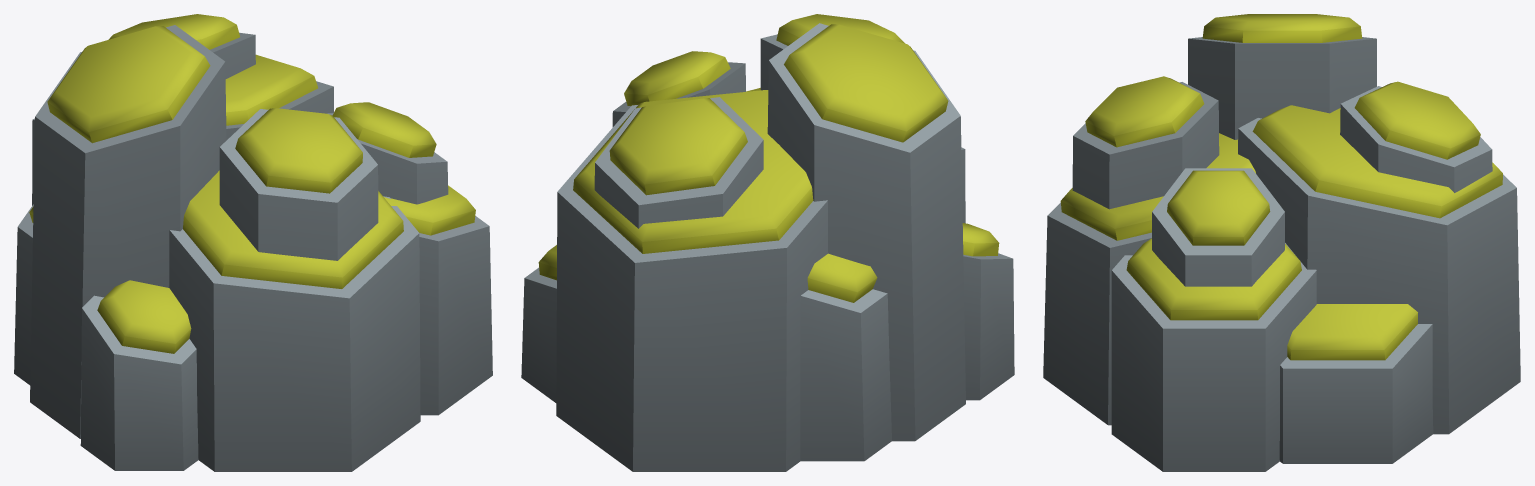
File: mountain_C_grass.glb
3 views of the same model, side by side, from view 1: azimuth 30°, elevation 25°; view 2: azimuth 150°, elevation 25°; view 3: azimuth 270°, elevation 25° (orthographic). The views are drawn at different scales.
Parts seen in each view (by area): view 1: mountain_C_grass; view 2: mountain_C_grass; view 3: mountain_C_grass.
Boxes of the visible parts, x1=… form: mountain_C_grass: x1=14, y1=14, x2=492, y2=471; mountain_C_grass: x1=521, y1=14, x2=1014, y2=471; mountain_C_grass: x1=1043, y1=14, x2=1520, y2=471.
Size of the model in its own units: 1.76 by 1.55 by 2.02.
1 material, 1 textured.
